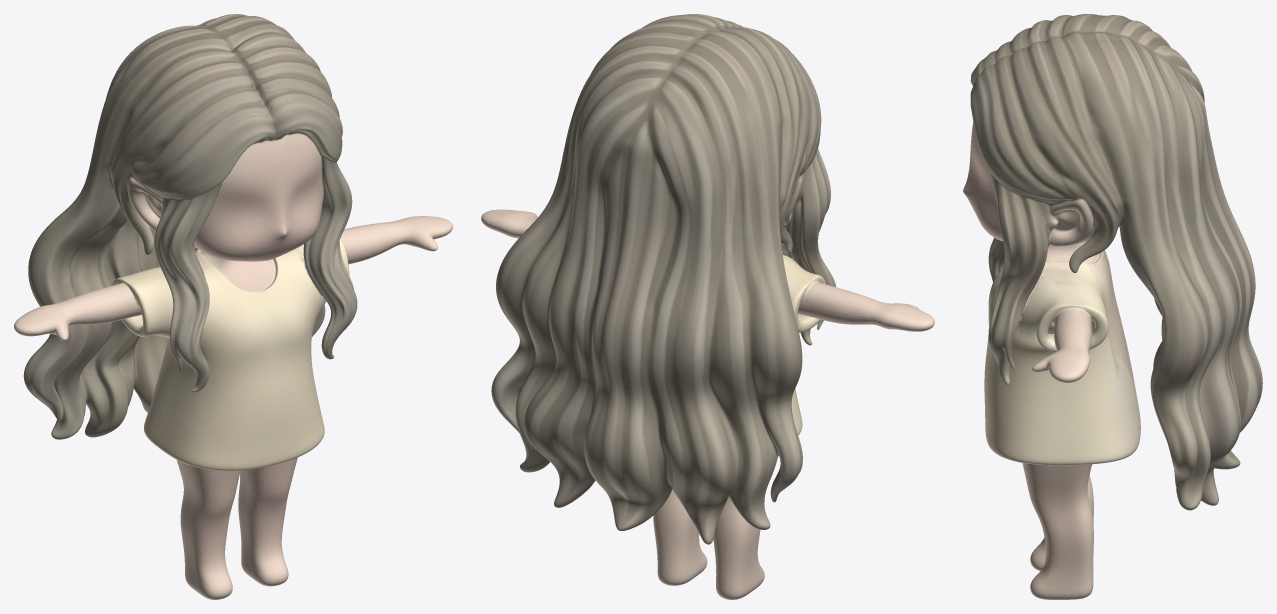
Rendered from baked_hair_ashblonde.glb.
3 views of the same model, side by side, from view 1: azimuth 30°, elevation 25°; view 2: azimuth 150°, elevation 25°; view 3: azimuth 270°, elevation 25° (orthographic). The views are drawn at different scales.
Bounding box in the file's own units: 1.59 × 1.9 × 0.9347.
Materials: 1 (1 with a texture image).
